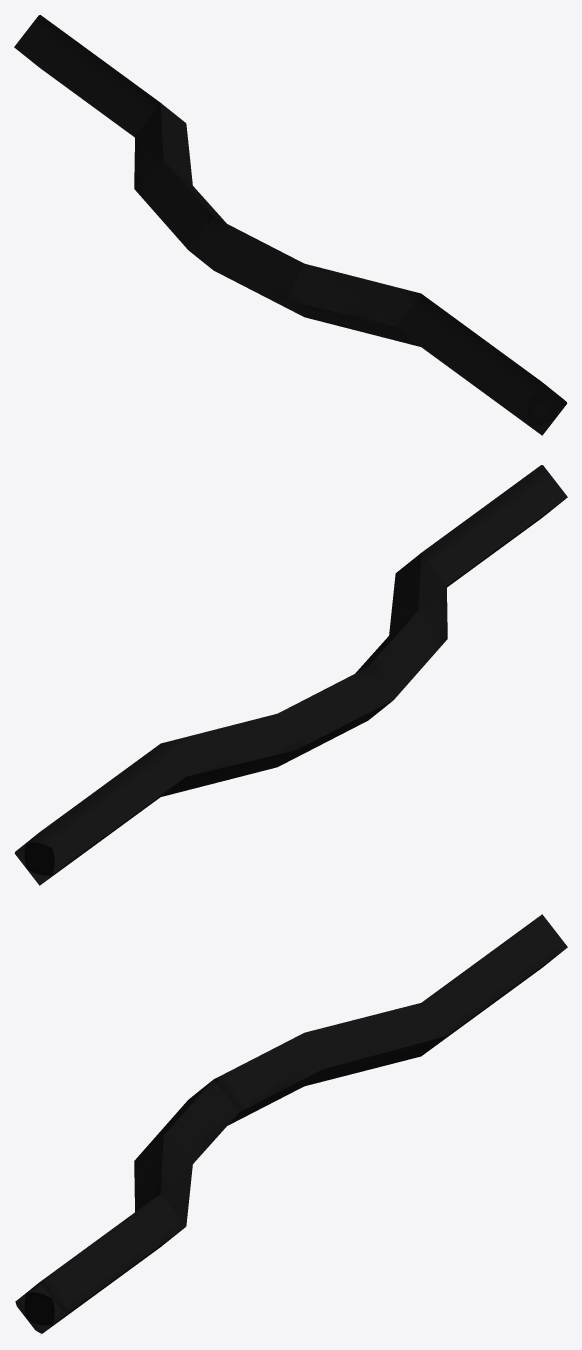
Rendered from cable_horizontal.obj.
3 views of the same model, one above another, from view 1: azimuth 30°, elevation 25°; view 2: azimuth 150°, elevation 25°; view 3: azimuth 330°, elevation 25° (orthographic).
Visible parts, largest first — view 1: 线缆; view 2: 线缆; view 3: 线缆.
Boxes of the visible parts, <box> form: 线缆: <box>14,15,567,435</box>; 线缆: <box>14,465,567,885</box>; 线缆: <box>15,914,567,1333</box>.
Bounding box in the file's own units: 0.3102 × 0.1237 × 2.1.
